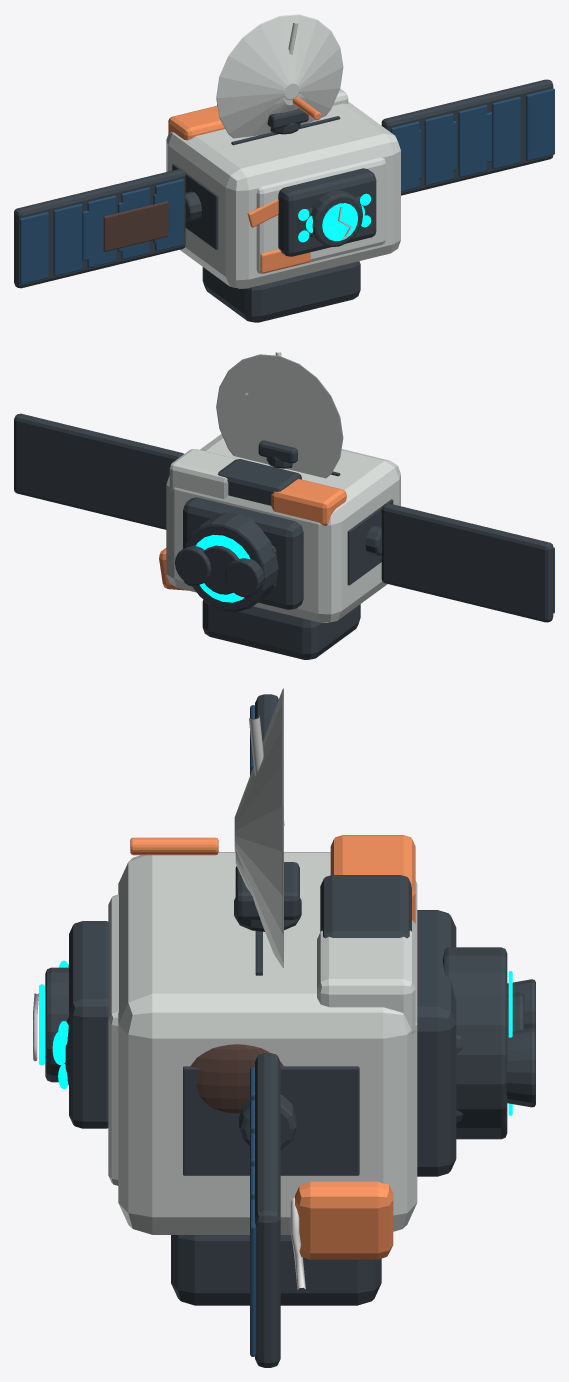
The model's file is cosmoforge_probe.glb.
3 renders of one model, top to bottom at view 1: azimuth 30°, elevation 25°; view 2: azimuth 150°, elevation 25°; view 3: azimuth 270°, elevation 25°, orthographic. The views are drawn at different scales.
Parts seen in each view (by area): view 1: Probe_Body, SolarPanel_Large_R, SolarPanel_Large_L, Personality_DRAMATIC_OversizedDish, CargoPod_Large, Sensor_Array, Front_Panel, Damage_ScorchedPanel, SolarPanel_Small_R, PanelLine_Side_L, Camera_Main, BatteryPack (+7 smaller); view 2: Probe_Body, SolarPanel_Large_R, SolarPanel_Large_L, Personality_DRAMATIC_OversizedDish, CargoPod_Large, SolarPanel_Small_L, Rear_Propulsion_Block, IonDrive, Thruster_Dual, ScienceModule, BatteryPack, CommunicationsBox (+6 smaller); view 3: Probe_Body, PanelLine_Side_R, IonDrive, CargoPod_Large, Rear_Propulsion_Block, SolarPanel_Large_R, Sensor_Array, Personality_DRAMATIC_OversizedDish, Personality_CHAOTIC_ImprovisedPod, ScienceModule, CommunicationsBox, BatteryPack (+8 smaller).
Part boxes in pixels (box(x1,y1,x2,y2)): Probe_Body: box(166, 101, 400, 288); SolarPanel_Large_R: box(381, 79, 554, 195); SolarPanel_Large_L: box(14, 169, 185, 288); Personality_DRAMATIC_OversizedDish: box(216, 14, 343, 138); CargoPod_Large: box(202, 261, 360, 322); Sensor_Array: box(278, 168, 376, 256); Front_Panel: box(256, 157, 385, 273); Damage_ScorchedPanel: box(103, 201, 168, 251); SolarPanel_Small_R: box(410, 112, 492, 178); PanelLine_Side_L: box(172, 164, 218, 249); Camera_Main: box(310, 190, 362, 247); BatteryPack: box(168, 106, 224, 140); Probe_Body: box(166, 434, 400, 622); SolarPanel_Large_R: box(14, 413, 183, 529); SolarPanel_Large_L: box(381, 503, 554, 622); Personality_DRAMATIC_OversizedDish: box(216, 354, 343, 478); CargoPod_Large: box(202, 599, 360, 659); SolarPanel_Small_L: box(382, 520, 482, 594); Rear_Propulsion_Block: box(183, 497, 303, 609); IonDrive: box(184, 512, 278, 611); Thruster_Dual: box(175, 545, 276, 597); ScienceModule: box(169, 449, 237, 498); BatteryPack: box(271, 479, 346, 525); CommunicationsBox: box(217, 459, 301, 505); Probe_Body: box(118, 852, 417, 1234); PanelLine_Side_R: box(183, 1066, 359, 1175); IonDrive: box(443, 947, 507, 1139); CargoPod_Large: box(171, 1235, 381, 1305); Rear_Propulsion_Block: box(417, 910, 456, 1176); SolarPanel_Large_R: box(250, 1053, 280, 1367); Sensor_Array: box(58, 921, 108, 1128); Personality_DRAMATIC_OversizedDish: box(234, 688, 283, 967); Personality_CHAOTIC_ImprovisedPod: box(295, 1181, 393, 1259); ScienceModule: box(317, 930, 415, 1033); CommunicationsBox: box(320, 875, 411, 938); BatteryPack: box(330, 835, 415, 923).
Size of the model in its own units: 7.3 by 3.63 by 2.96.
